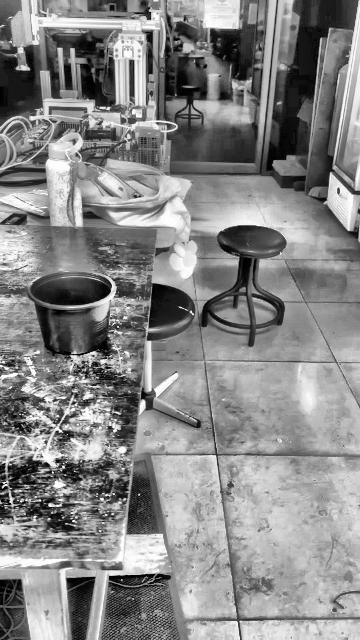pot: (28, 271, 115, 354)
